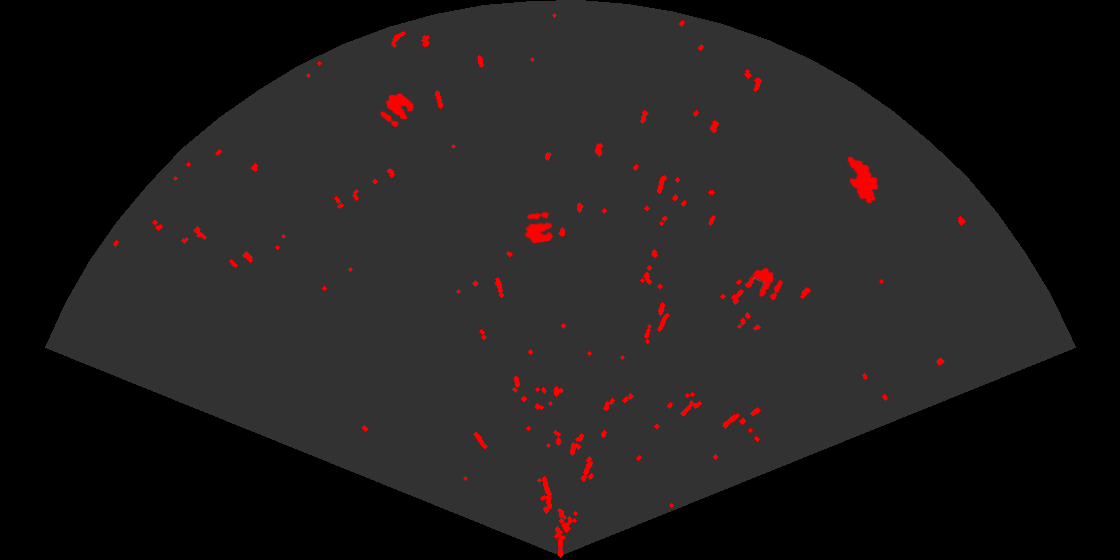AUV: (845, 155, 880, 205)
ball: (379, 92, 415, 129), (750, 266, 785, 302), (523, 210, 555, 245)
